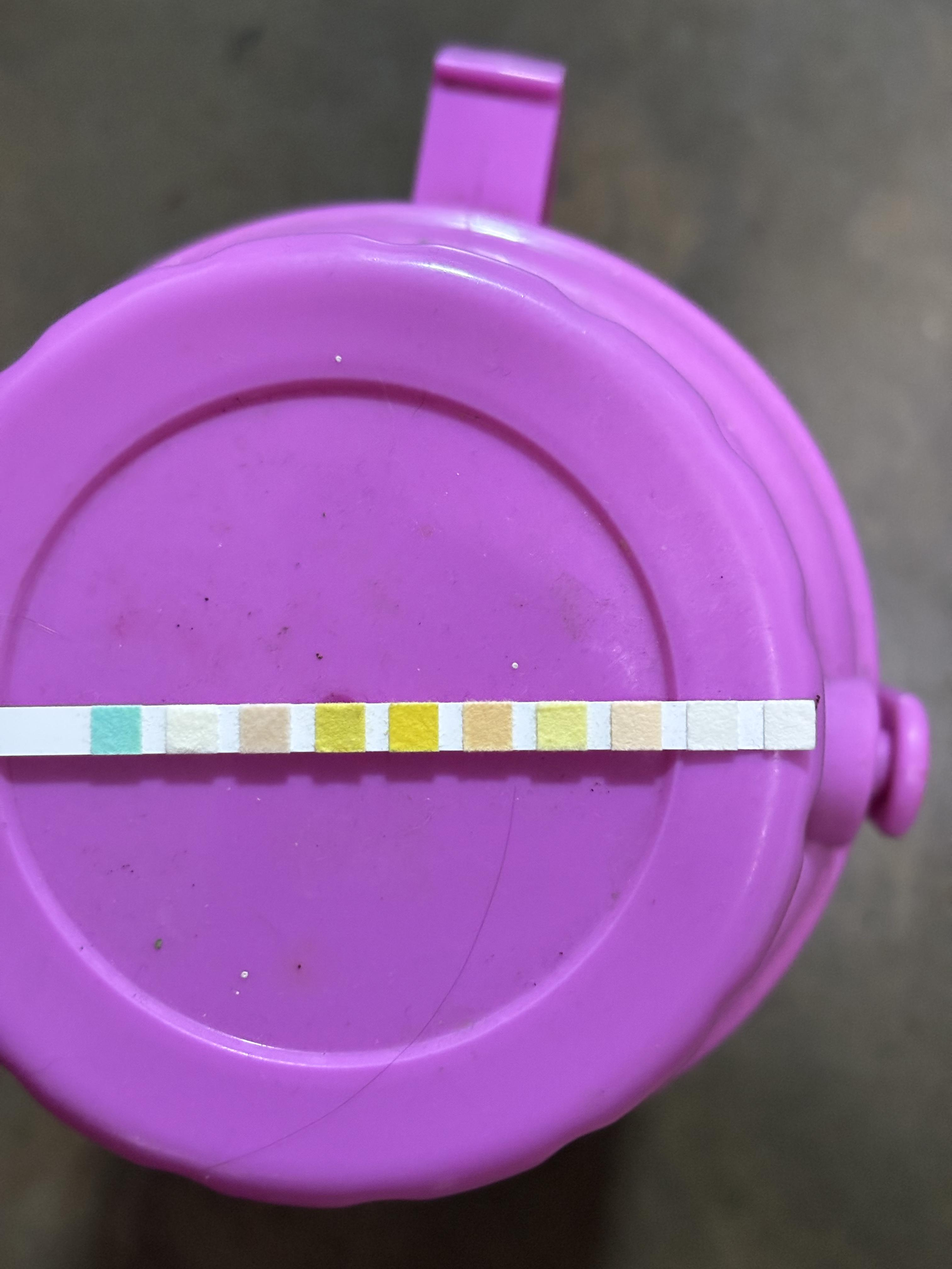Bilirubin: (168, 706, 215, 752)
Blood: (390, 706, 436, 751)
Glucose: (93, 707, 139, 752)
Ketone: (241, 706, 288, 751)
Leukocytes: (765, 700, 811, 747)
Nitrite: (688, 703, 735, 750)
Protein: (538, 704, 584, 749)
SpGravity: (317, 706, 363, 751)
Urobilinogen: (611, 702, 658, 748)
pH: (463, 704, 510, 749)
strip: (12, 700, 814, 756)
